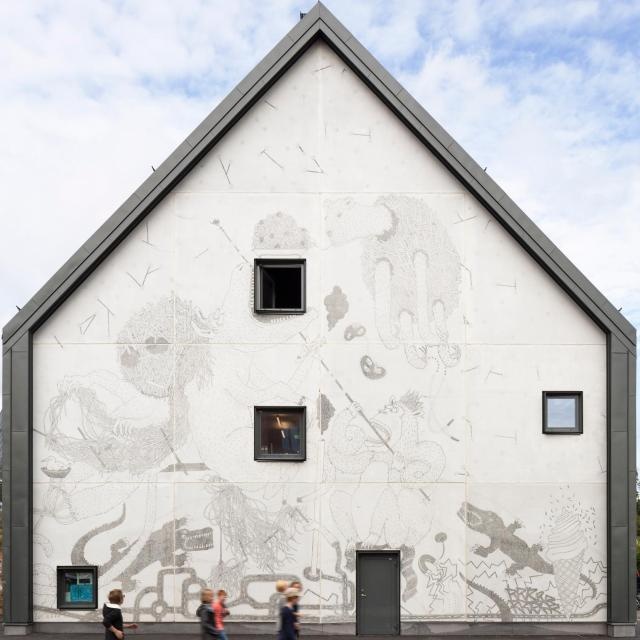door: (354, 550, 402, 640)
wall: (3, 0, 638, 639)
windows: (251, 407, 308, 463), (252, 256, 308, 312), (57, 564, 99, 610), (543, 389, 582, 434)
